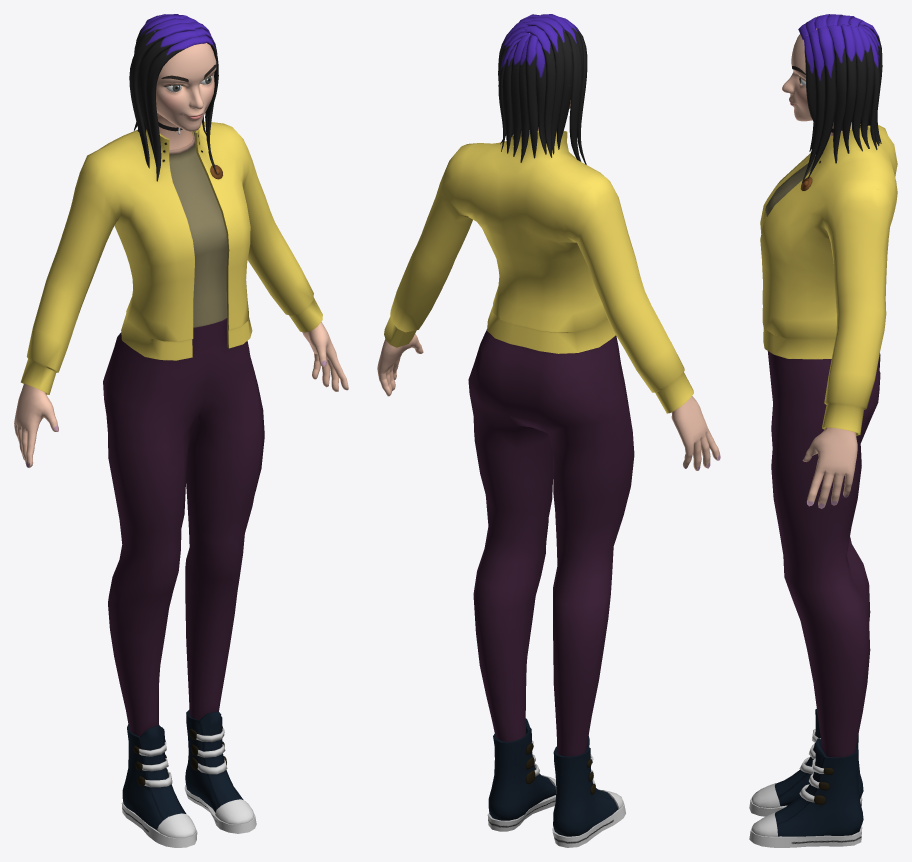
File: Jacket Girl.glb
3 views of the same model, side by side, from view 1: azimuth 30°, elevation 25°; view 2: azimuth 150°, elevation 25°; view 3: azimuth 270°, elevation 25° (orthographic). The views are drawn at different scales.
Parts seen in each view (by area): view 1: Scarf_Low.002, Scarf_Low.003, Cube, Scarf_Low.005, Scarf_Low.001, Retopo_NurbsPath.007, Cube.001; view 2: Scarf_Low.002, Scarf_Low.003, Retopo_NurbsPath.007, Cube, Scarf_Low.005; view 3: Scarf_Low.003, Scarf_Low.002, Retopo_NurbsPath.007, Cube, Scarf_Low.005, Scarf_Low.001, Cube.001.
Boxes of the visible parts, left/top/right/bottom form: Scarf_Low.002: left=103, top=318, right=264, bottom=736; Scarf_Low.003: left=20, top=121, right=322, bottom=394; Cube: left=121, top=710, right=256, bottom=847; Scarf_Low.005: left=14, top=43, right=348, bottom=467; Scarf_Low.001: left=169, top=131, right=227, bottom=327; Retopo_NurbsPath.007: left=129, top=14, right=218, bottom=181; Cube.001: left=139, top=728, right=227, bottom=787; Scarf_Low.002: left=468, top=329, right=634, bottom=756; Scarf_Low.003: left=384, top=130, right=693, bottom=413; Retopo_NurbsPath.007: left=498, top=14, right=587, bottom=164; Cube: left=487, top=718, right=625, bottom=847; Scarf_Low.005: left=377, top=33, right=720, bottom=470; Scarf_Low.003: left=760, top=124, right=897, bottom=435; Scarf_Low.002: left=767, top=351, right=880, bottom=757; Retopo_NurbsPath.007: left=798, top=14, right=882, bottom=182; Cube: left=749, top=709, right=863, bottom=847; Scarf_Low.005: left=782, top=28, right=857, bottom=508; Scarf_Low.001: left=765, top=156, right=815, bottom=216; Cube.001: left=799, top=729, right=823, bottom=802.
Size of the model in its own units: 0.7691 by 1.81 by 0.3027.
1 material, 1 textured.
